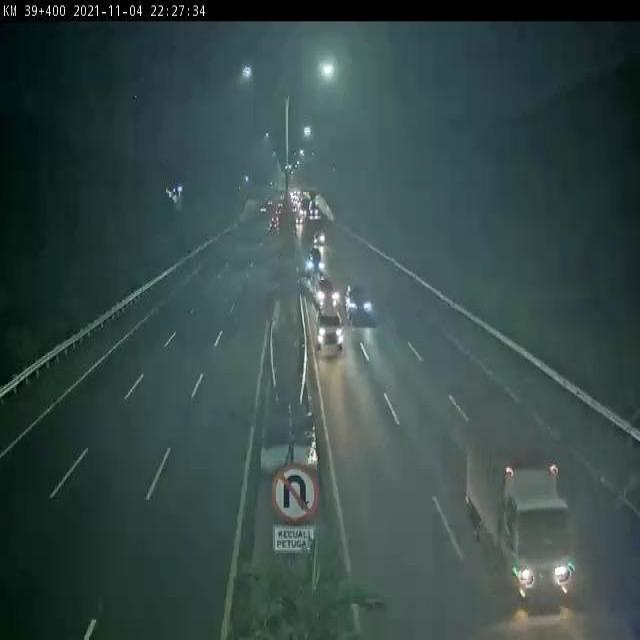car: (317, 308, 344, 353), (346, 286, 376, 322), (314, 279, 338, 308)
truck-s-: (462, 406, 572, 602)
